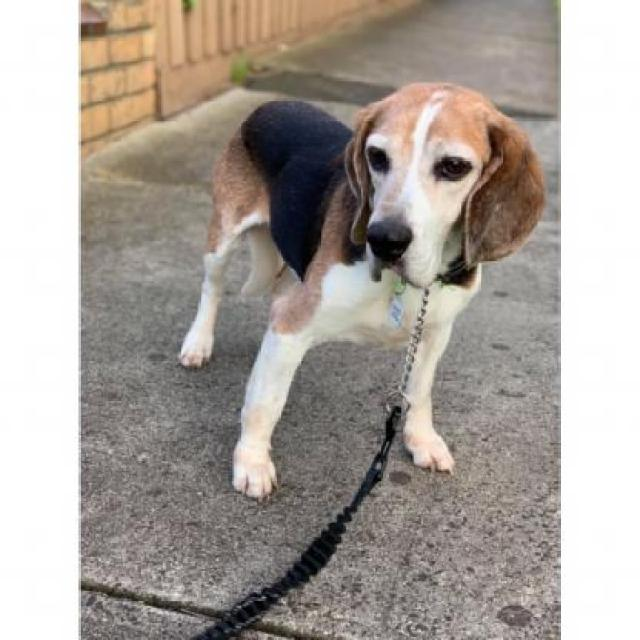Dog: (179, 77, 546, 505)
